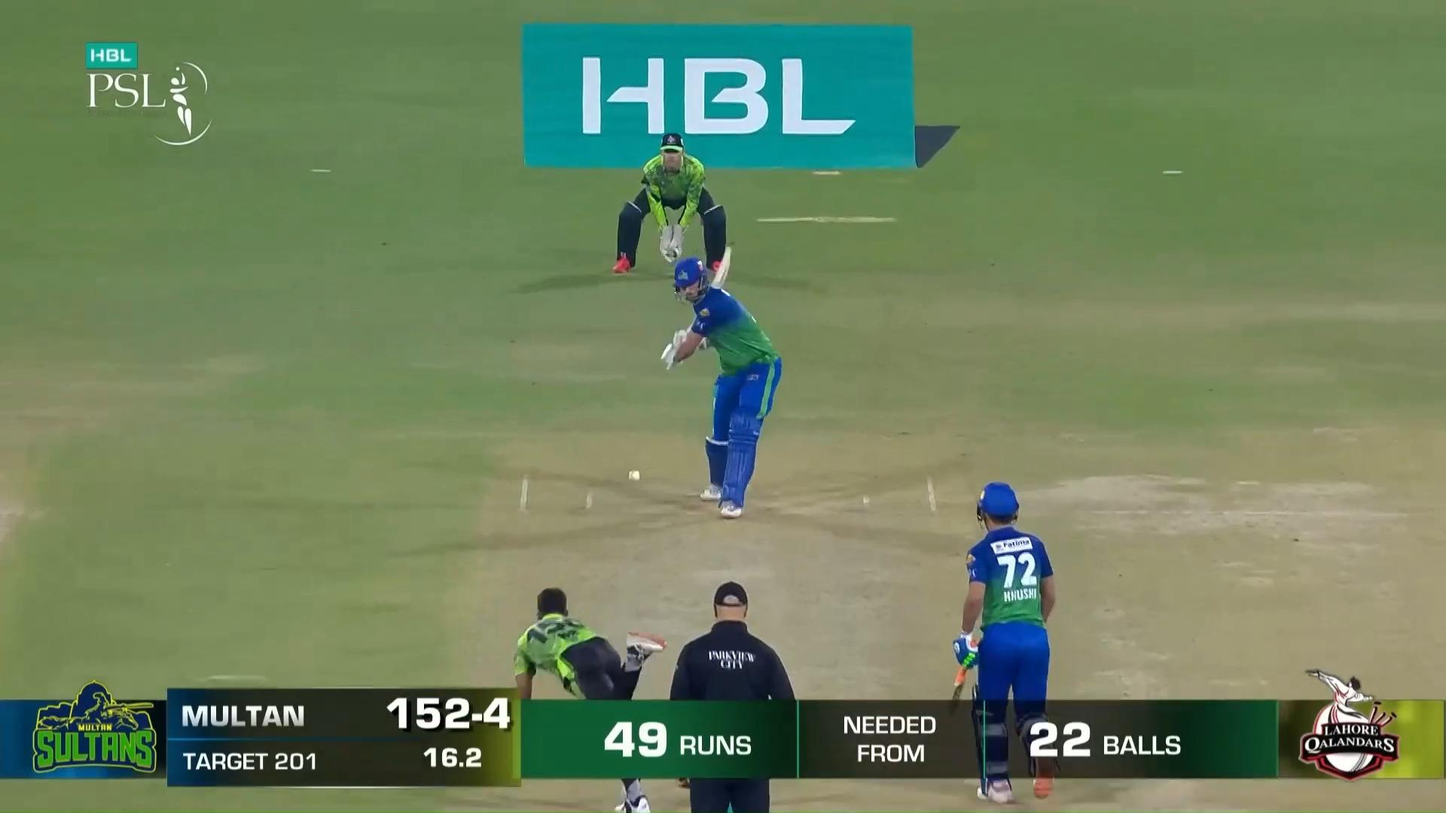batsman: (661, 246, 782, 517)
